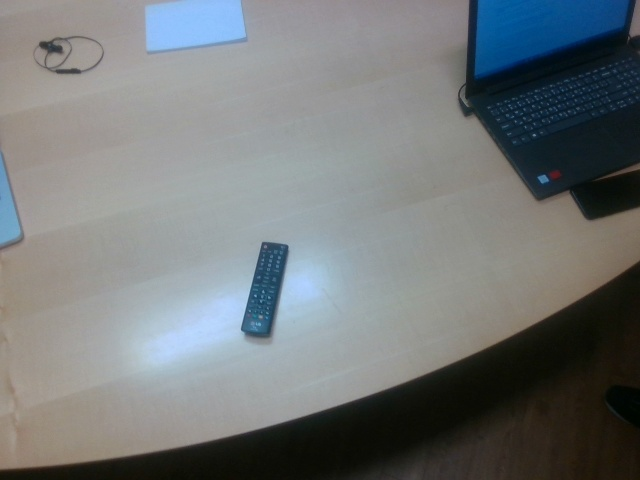remote: (240, 243, 290, 340)
